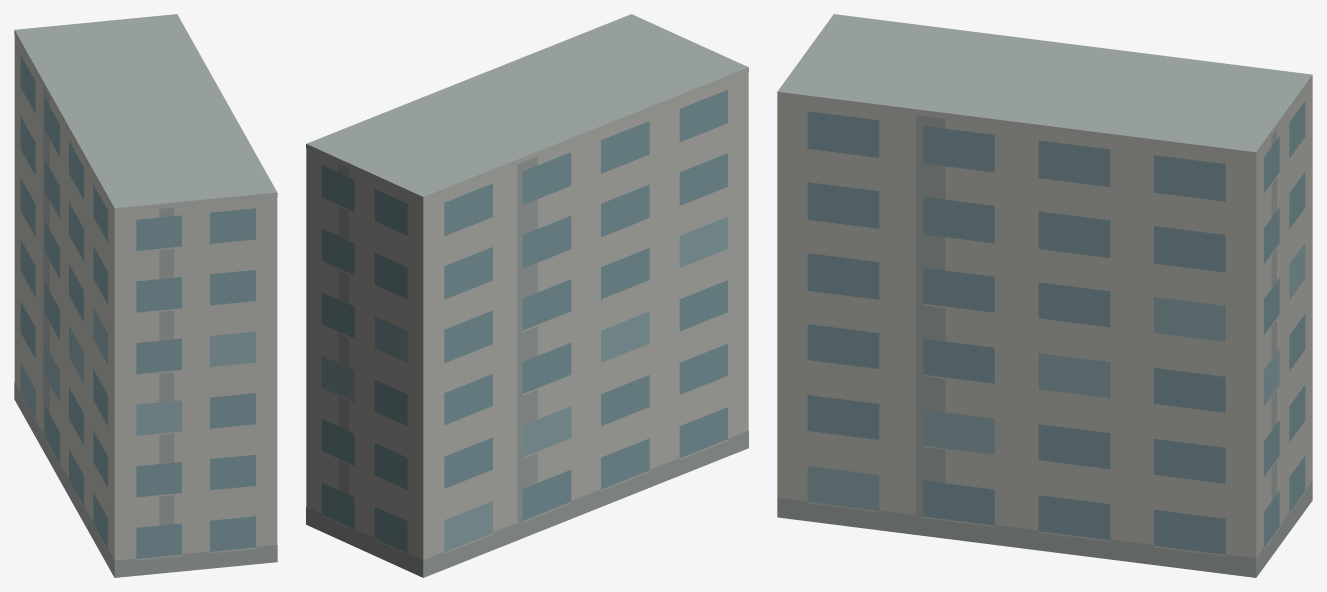
Rendered from survey-upis-32872759.glb.
The picture shows the model from 3 angles, left to right: view 1: azimuth 30°, elevation 25°; view 2: azimuth 150°, elevation 25°; view 3: azimuth 270°, elevation 25°; orthographic projection. The views are drawn at different scales.
Parts seen in each view (by area): view 1: survey-upis-32872759.tmp; view 2: survey-upis-32872759.tmp; view 3: survey-upis-32872759.tmp.
Boxes of the visible parts, x1=… form: survey-upis-32872759.tmp: x1=14, y1=14, x2=277, y2=577; survey-upis-32872759.tmp: x1=306, y1=14, x2=748, y2=577; survey-upis-32872759.tmp: x1=777, y1=14, x2=1312, y2=577.
Size of the model in its own units: 12.76 by 18.3 by 20.87.
